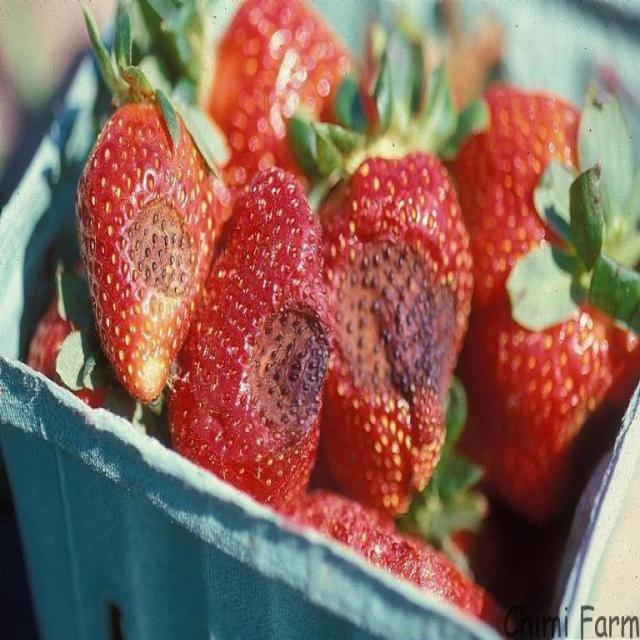Fruta sana: (453, 81, 640, 517), (207, 2, 380, 210)
Mancha negra Antracnosis: (321, 154, 476, 520), (169, 169, 332, 512), (76, 104, 218, 404)
